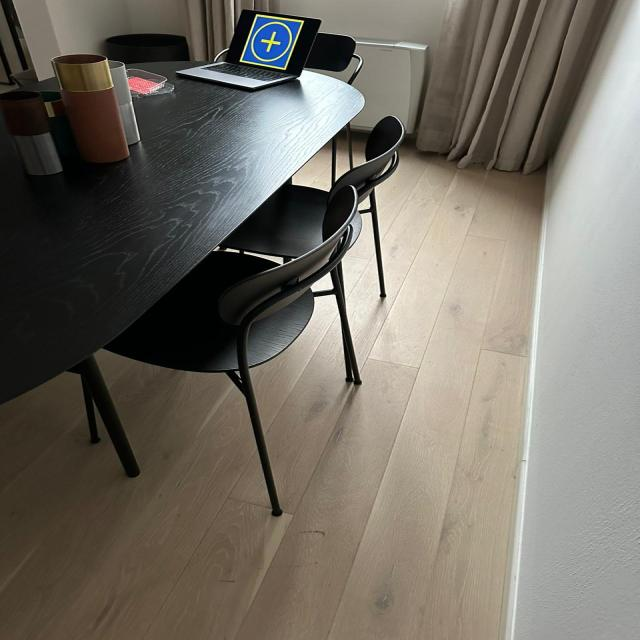Marker: (240, 11, 307, 74)
